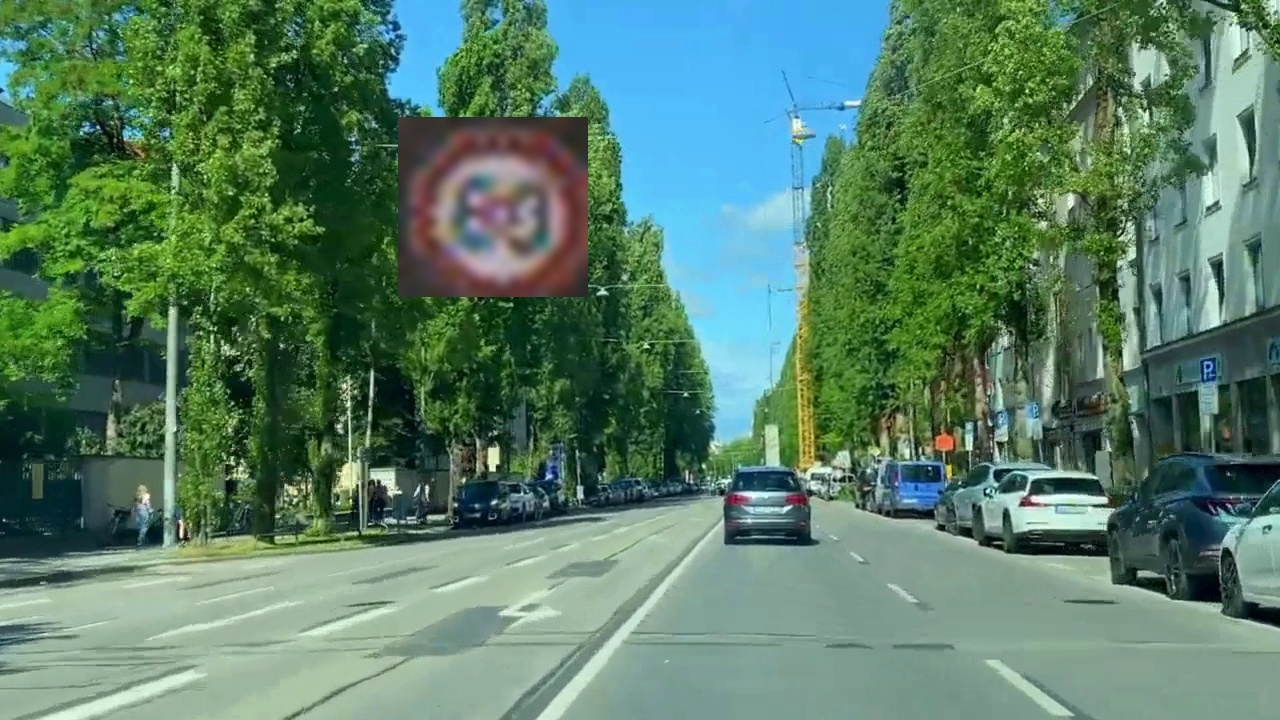Speed 80: (398, 117, 588, 297)
